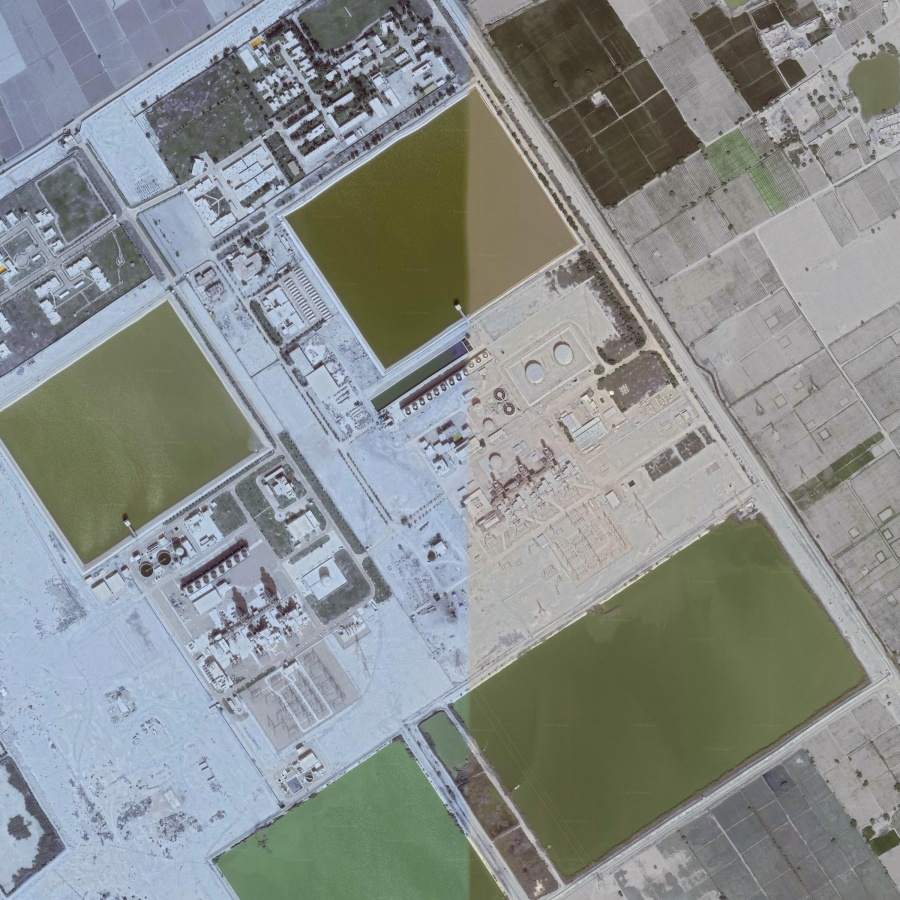PowerPlant: (136, 463, 378, 784), (418, 342, 613, 536)
